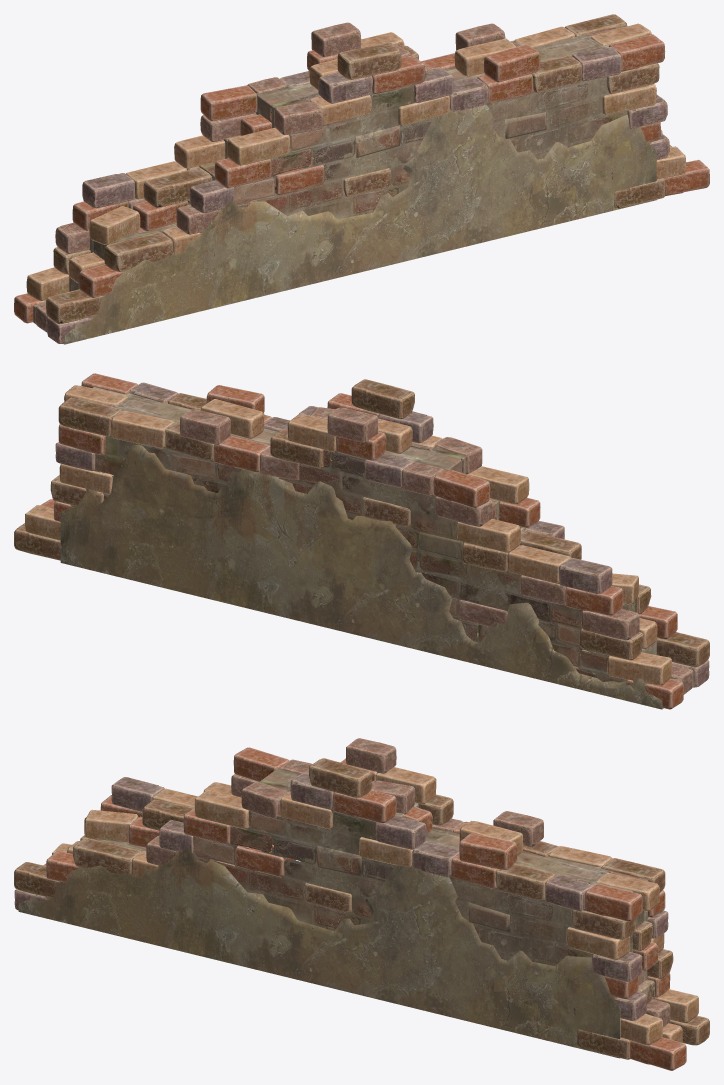
3 renders of one model, top to bottom at view 1: azimuth 30°, elevation 25°; view 2: azimuth 150°, elevation 25°; view 3: azimuth 330°, elevation 25°, orthographic.
Parts seen in each view (by area): view 1: SM_Human_Ruins_LowWall_Dmg_03_LOD0; view 2: SM_Human_Ruins_LowWall_Dmg_03_LOD0; view 3: SM_Human_Ruins_LowWall_Dmg_03_LOD0.
Boxes of the visible parts, x1,y1,x2,y2 form: SM_Human_Ruins_LowWall_Dmg_03_LOD0: (14, 14, 709, 344); SM_Human_Ruins_LowWall_Dmg_03_LOD0: (14, 373, 709, 709); SM_Human_Ruins_LowWall_Dmg_03_LOD0: (14, 738, 709, 1070).
Bounding box in the file's own units: 4.43 × 1.37 × 0.566.
3 materials, 3 textured.
